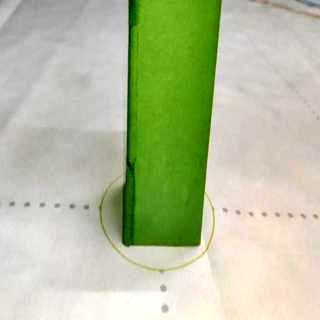greenbox: (126, 1, 220, 246)
